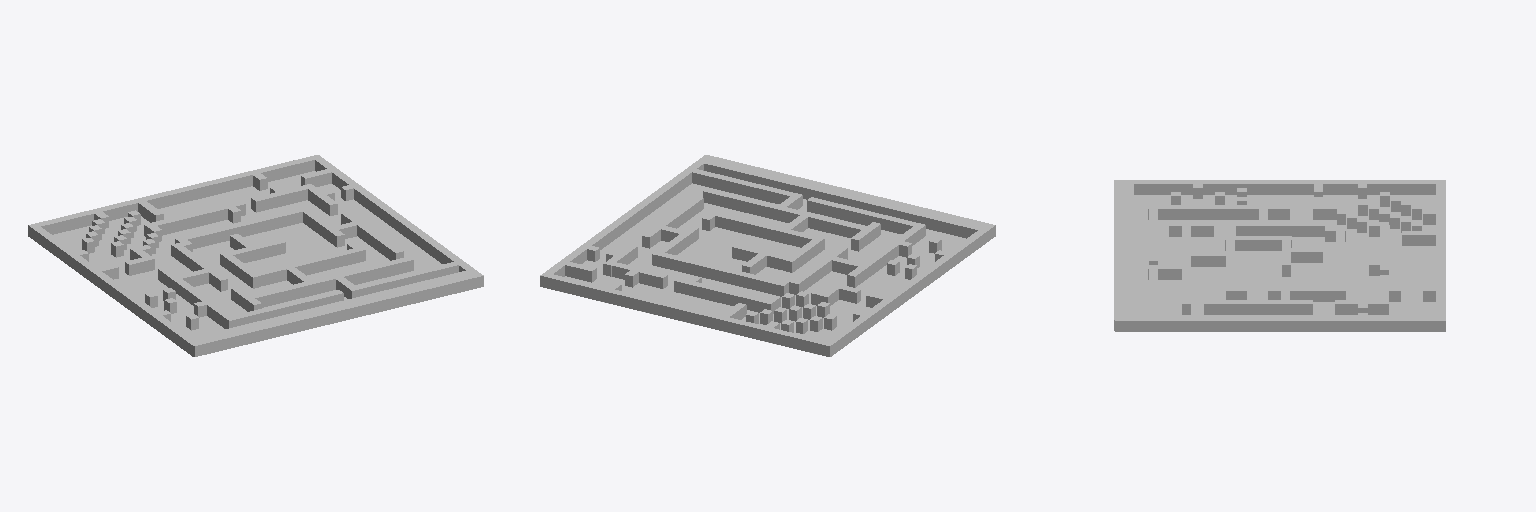
The model's file is level2.obj.
3 views of the same model, side by side, from view 1: azimuth 30°, elevation 25°; view 2: azimuth 150°, elevation 25°; view 3: azimuth 270°, elevation 25° (orthographic).
Visible parts, largest first — view 1: level2; view 2: level2; view 3: level2.
Part boxes in pixels (bbox=[...]): level2: bbox=[28, 155, 483, 356]; level2: bbox=[540, 155, 995, 356]; level2: bbox=[1114, 180, 1445, 331].
Bounding box in the file's own units: 50.54 × 1.85 × 50.04.